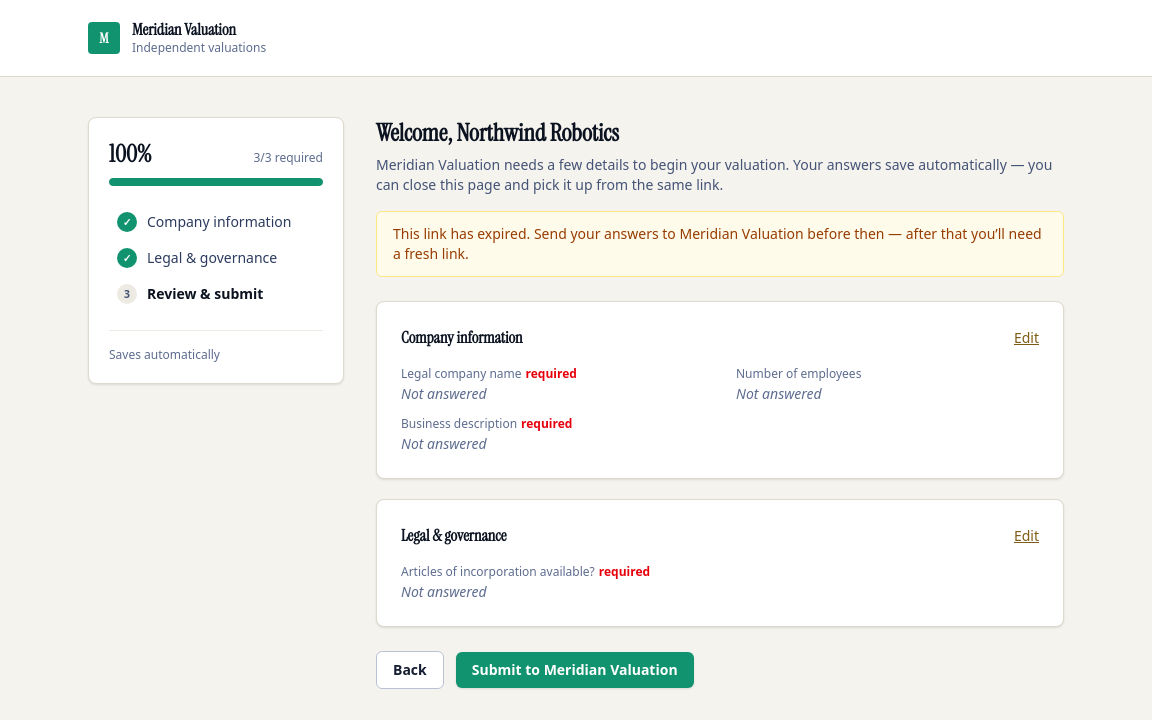
Scenario: ClientIntakePage › confirms a completed submission and stops accepting changes
Check: the heading "Welcome, Northwind Robotics" is shown, box x1=376 y1=117 x2=619 y2=148
Click the button "3 Review & submit".
click(216, 294)  # box x1=109 y1=278 x2=323 y2=310
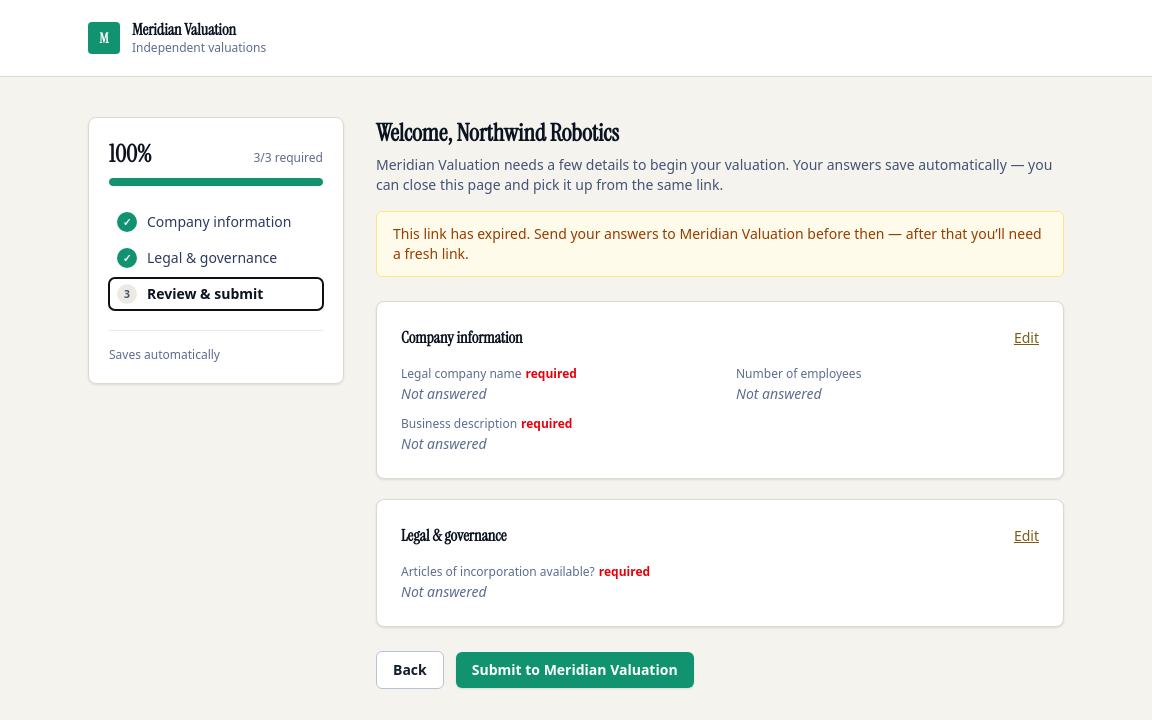
Click the button "Submit to Meridian Valuation".
click(575, 670)  # box x1=456 y1=652 x2=694 y2=688
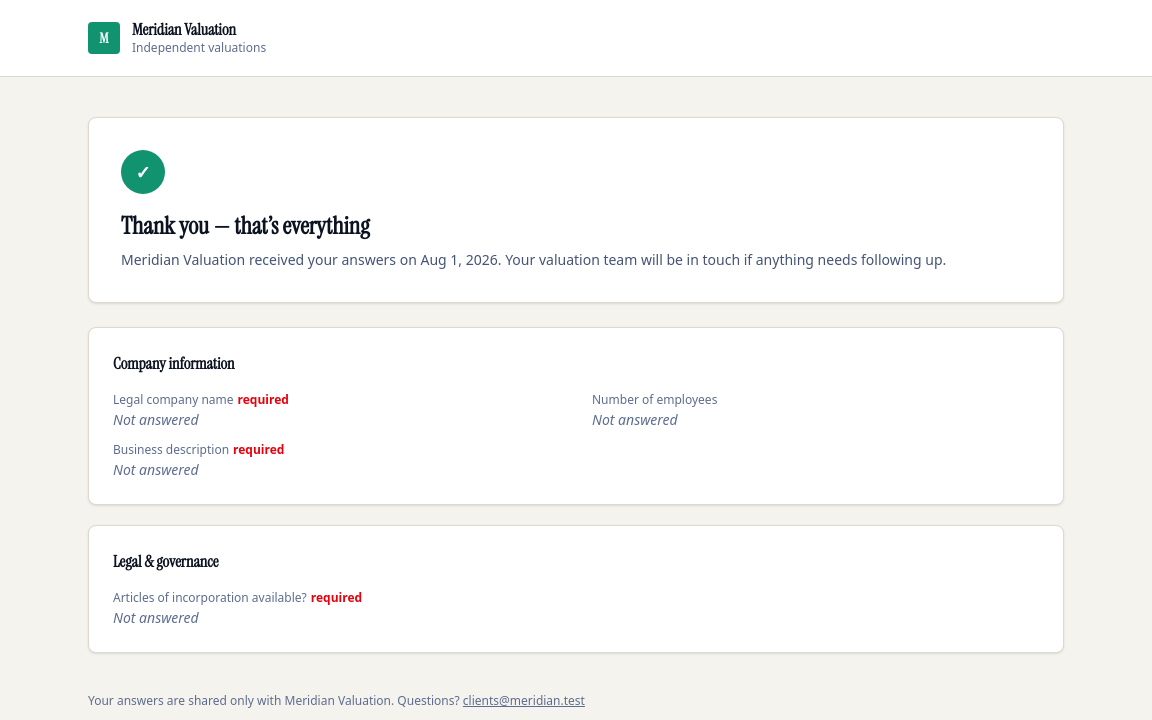
Check: the heading "Thank you — that’s everything" is shown, box x1=121 y1=210 x2=370 y2=241
Check: the button "Submit to" is gone
